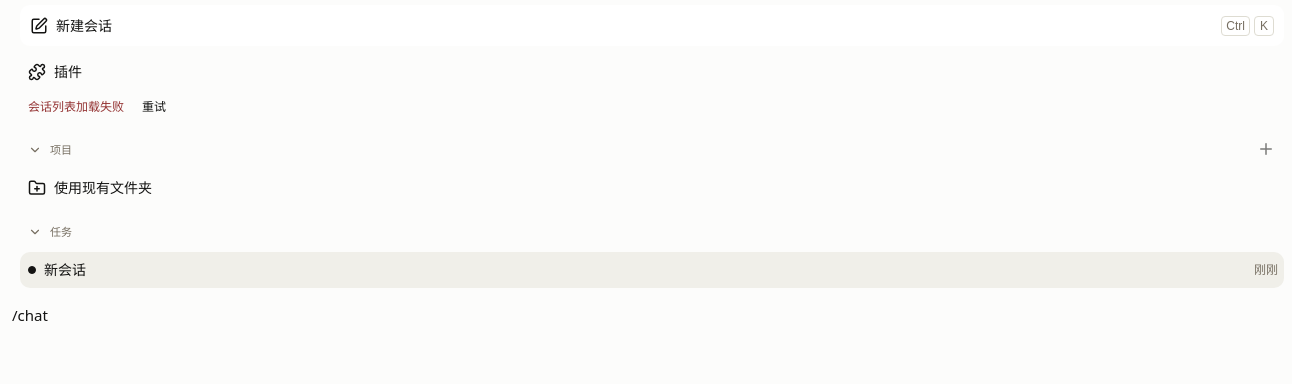
Test: SessionsController：加载失败 › 错误行 + 重试：重试成功后列表出现
The width and height of the screenshot is (1292, 384).
Expected: the element with test id "session-load-error" shows "会话列表加载失败", [28,98,124,115]
Expected: the element with test id "session-load-error" does not show "连接被拒绝", [28,94,180,120]
Click the button with test id "session-load-retry".
click(154, 107)  # box [128,94,180,120]
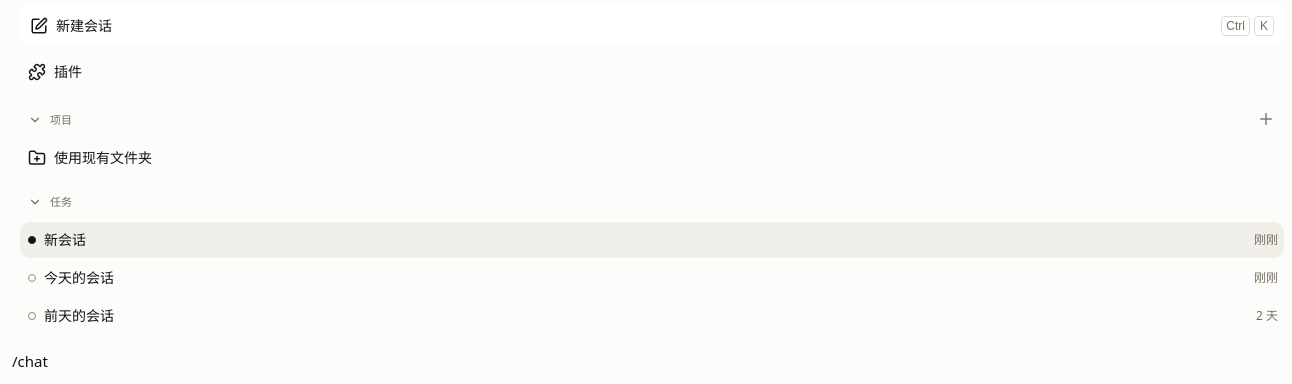
Expected: the button with test id "session-item-t-a" is shown, [20,260,1200,296]
Expected: the element with test id "session-load-error" is gone
